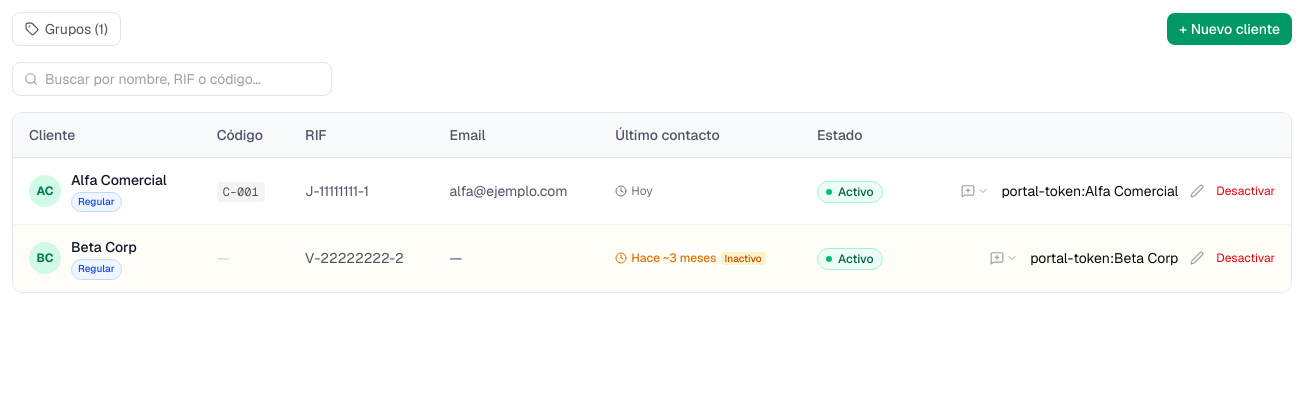
Test: CustomerList — smoke del refactor RHF (P2) › click en editar → el form inline muestra los defaultValues del customer
This screenshot has width=1304, height=399.
Fila de Alfa Comercial (primera en el orden inicial)
Click the button titled "Editar cliente" next to "portal-token:Alfa Comercial": {"x": 1197, "y": 191} [1190,184,1204,198]
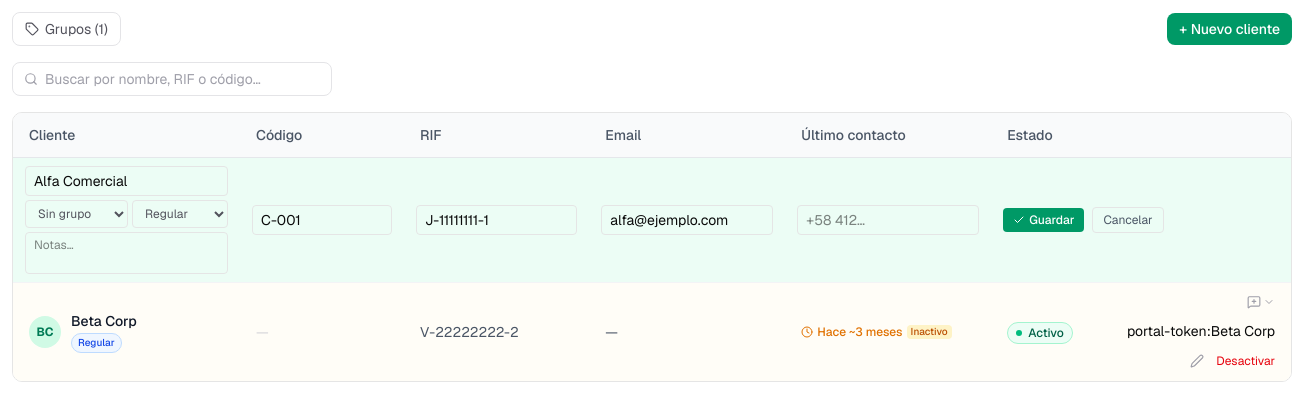
Result: the 1st field showing "Alfa Comercial" is shown at [25,166,228,196]
Result: the 3rd field showing "J-11111111-1" is shown at [416,205,577,235]
Result: the 2nd field showing "C-001" is shown at [252,205,392,235]
